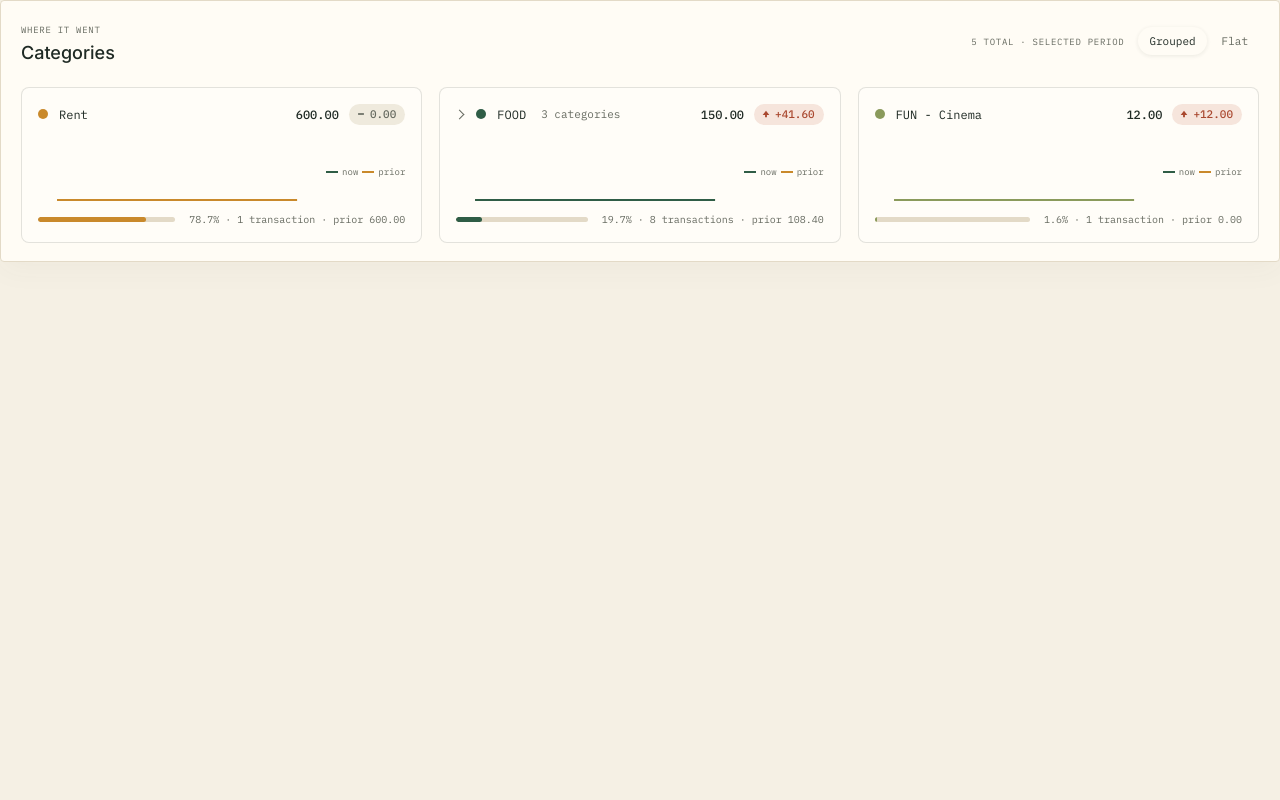
Test: CategoryPanel grouping › expands to show the categories inside the group, including ones with no spending now
Click the button with class "category-group-toggle": (640, 165) [456,104,824,226]
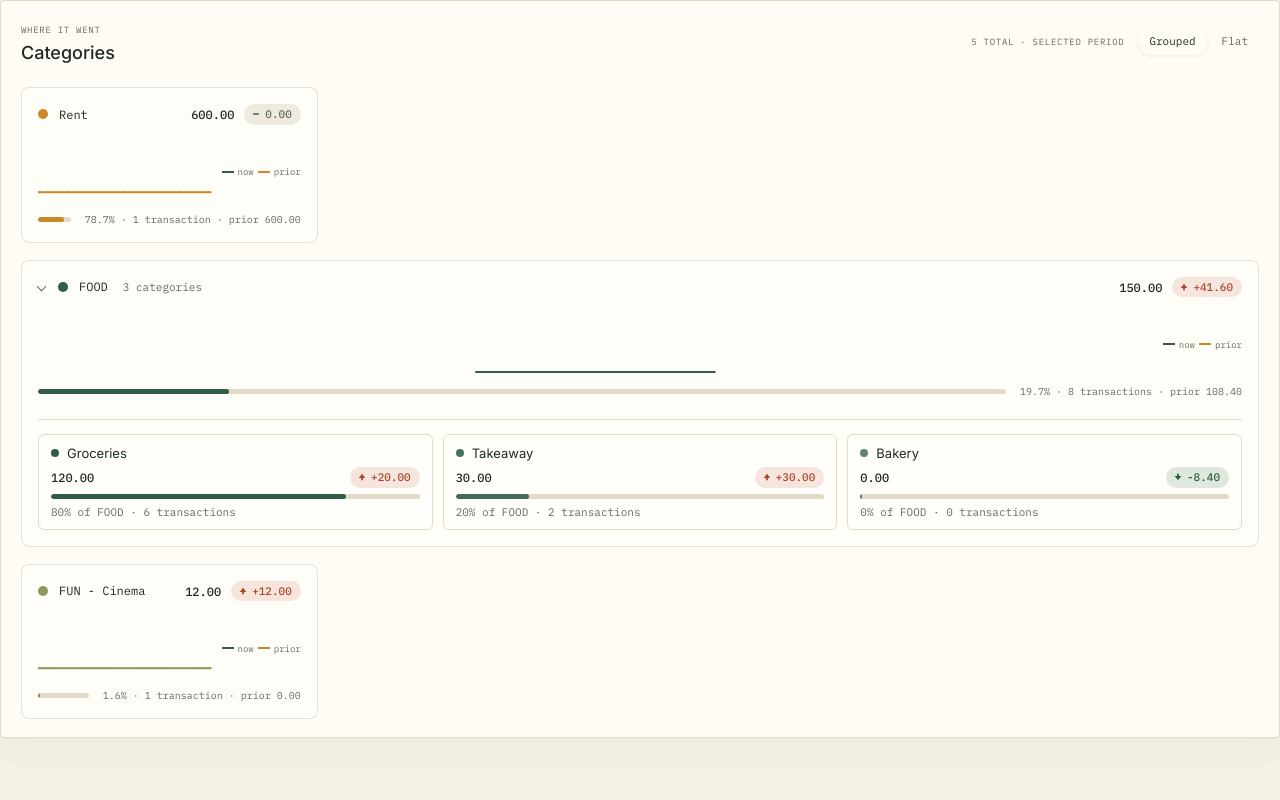
Result: the button with class "category-group-toggle" is expanded at [38,276,1242,398]
Result: the text "Groceries" is shown at [67,445,127,461]
Result: the text "Takeaway" is shown at [472,445,533,461]
